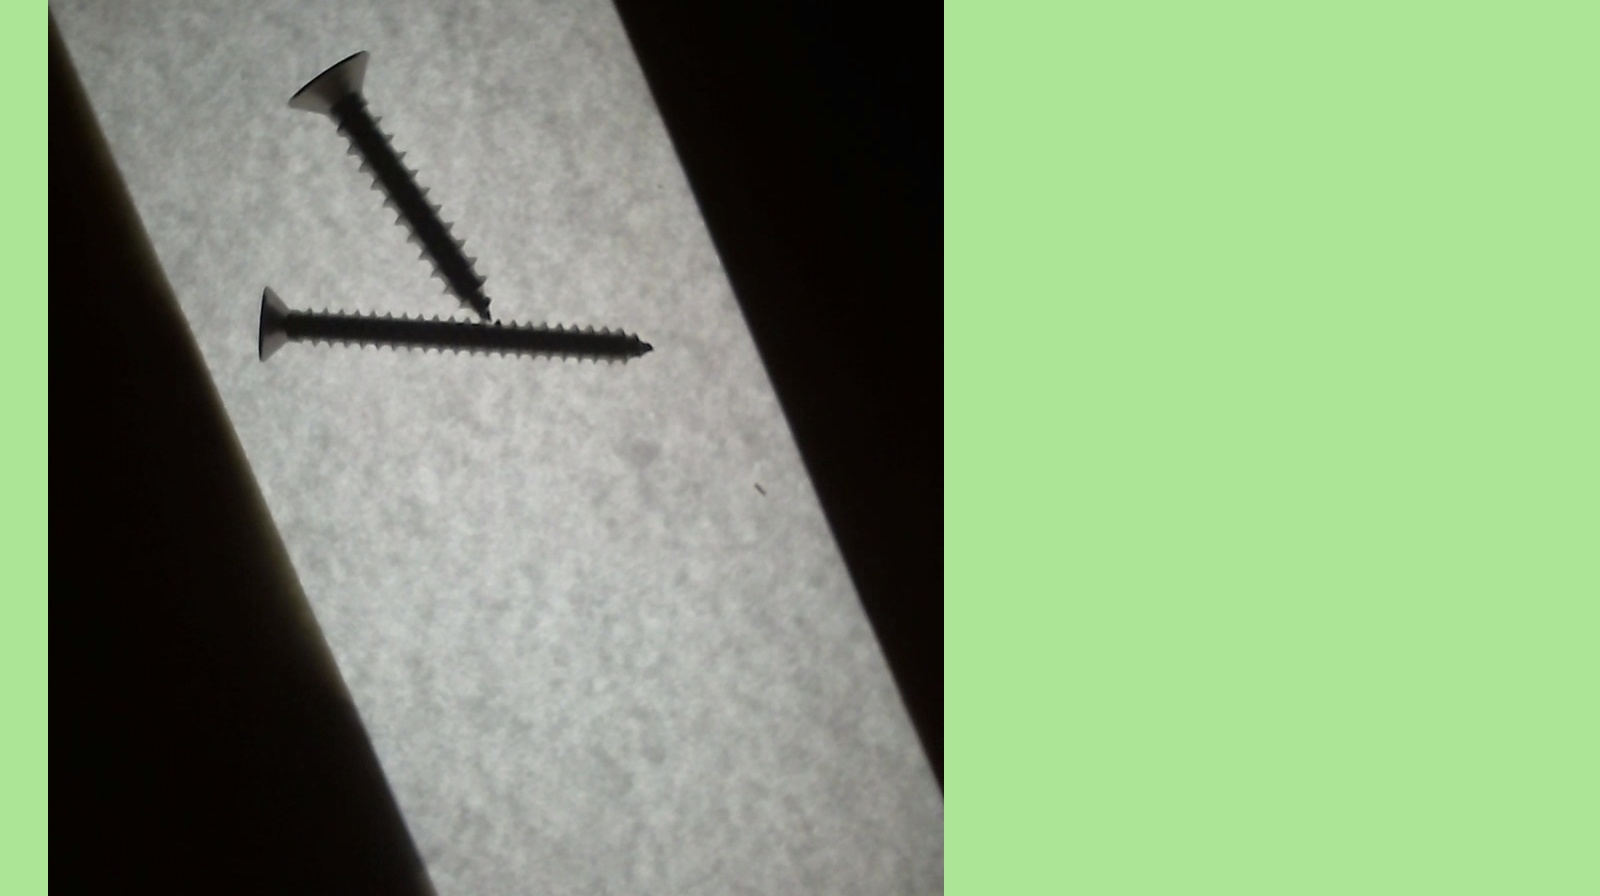S001: (277, 37, 502, 327)
S002: (253, 278, 658, 370)
